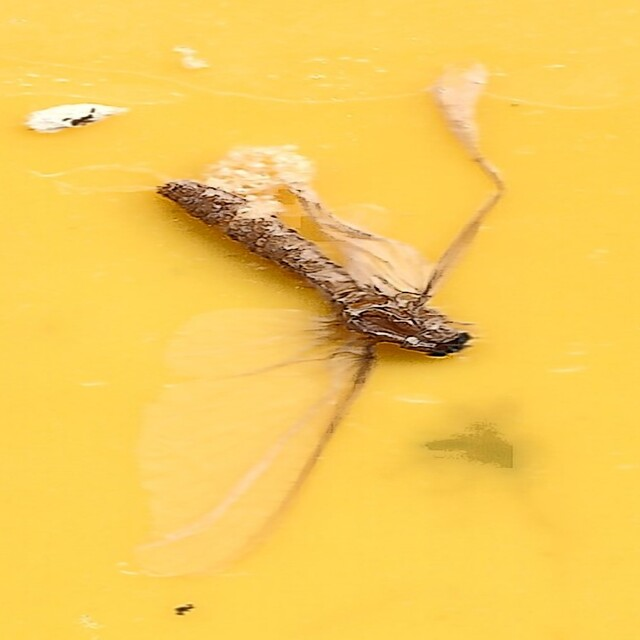Ephemeroptera: (125, 66, 515, 574)
